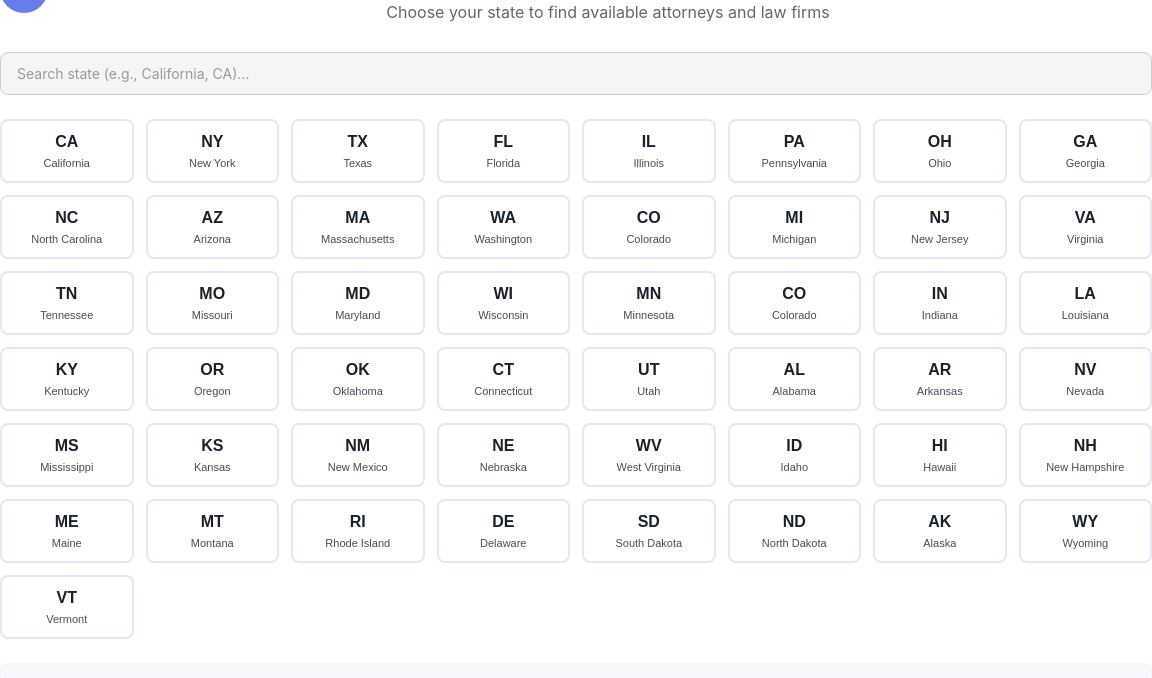
it: FindAttorneyStep1 › State Selection › disables continue button until state is selected
Click the button with test id "state-button-CA". click: (67, 151)
box: [0,119,134,183]
(page scrolled)
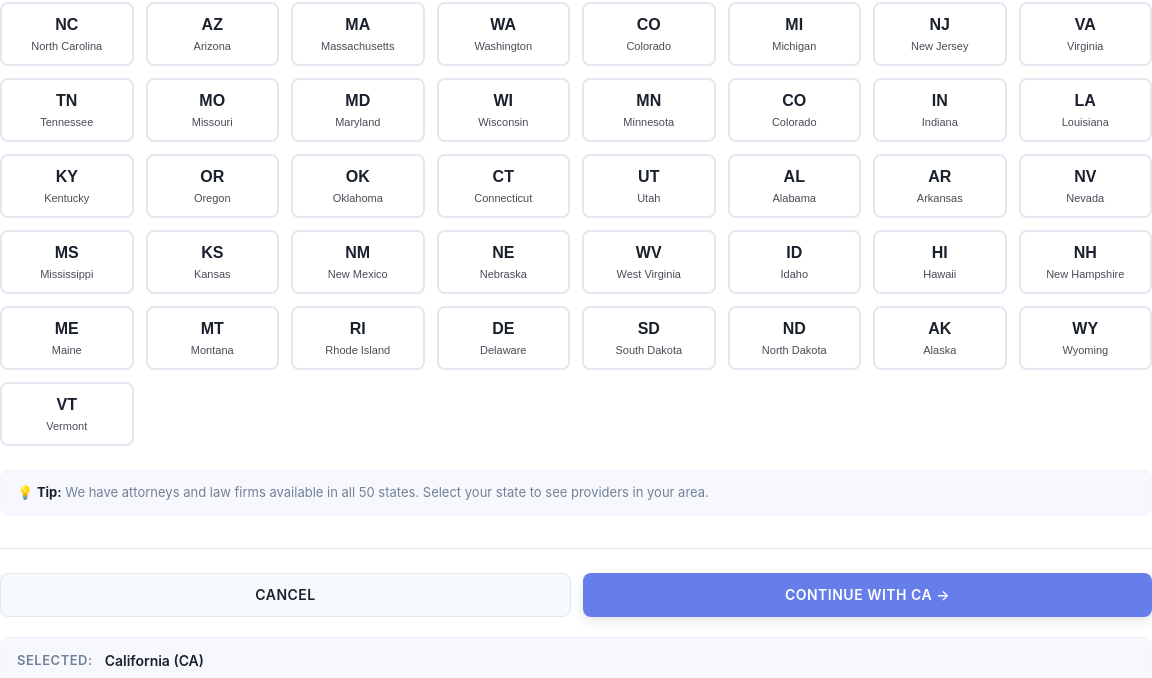
Check: the button with test id "btn-continue" is enabled, box [583,572,1151,616]
